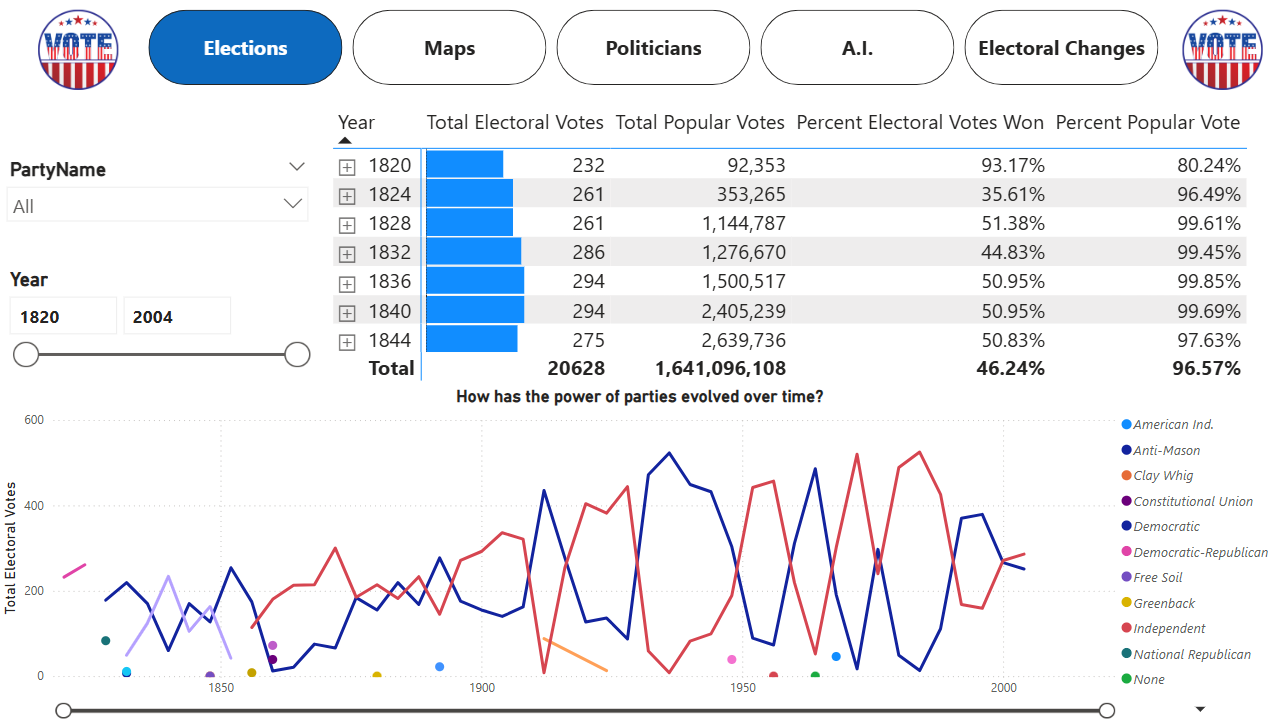

Layout of this report page (visuals, bound fields, positions):
{"tool":"powerbi","page":{"name":"Elections","canvas":[1280,720],"ordinal":0},"visuals":[{"type":"pageNavigator","box":[150,10,1008.6,75],"z":0},{"type":"image","box":[1158.6,10,121.4,80],"z":1000},{"type":"image","box":[20,10,121.4,80],"z":2000},{"type":"pivotTable","fields":{"Rows":["Date (Dim).Year","Candidate (Dim).CandidateName","State (Dim).LongName"],"Values":["Election Results (Fact).Total Electoral Votes","Election Results (Fact).Total Popular Votes","Election Results (Fact).Percent Electoral Votes Won","Election Results (Fact).Percent Popular Vote"]},"box":[328.7,100.7,951.7,283.7],"z":3000},{"type":"slicer","fields":{"Values":["Date (Dim).Year"]},"box":[0,262.5,319.4,161.7],"z":4000},{"type":"slicer","fields":{"Values":["Political Party (Dim).PartyName"]},"box":[0,153.8,319.4,103.4],"z":5000},{"type":"lineChart","title":"How has the power of parties evolved over time?","fields":{"Category":["Date (Dim).Year"],"Y":["Election Results (Fact).Total Electoral Votes"],"Series":["Political Party (Dim).PartyName"]},"box":[0,384.7,1279.8,334.2],"z":6000}]}

Visuals, with their boxes in screenshot pixels (x1, y1, x2, y2), scaled from the page's 1280x720 canvas onto the 1271x720 screenshot:
pageNavigator: (left=149, top=10, right=1150, bottom=85)
image: (left=1150, top=10, right=1270, bottom=90)
image: (left=20, top=10, right=140, bottom=90)
pivotTable - Date (Dim).Year x Candidate (Dim).CandidateName: (left=326, top=101, right=1270, bottom=384)
slicer - Date (Dim).Year: (left=0, top=262, right=317, bottom=424)
slicer - Political Party (Dim).PartyName: (left=0, top=154, right=317, bottom=257)
"How has the power of parties evolved over time?" lineChart: (left=0, top=385, right=1270, bottom=719)
